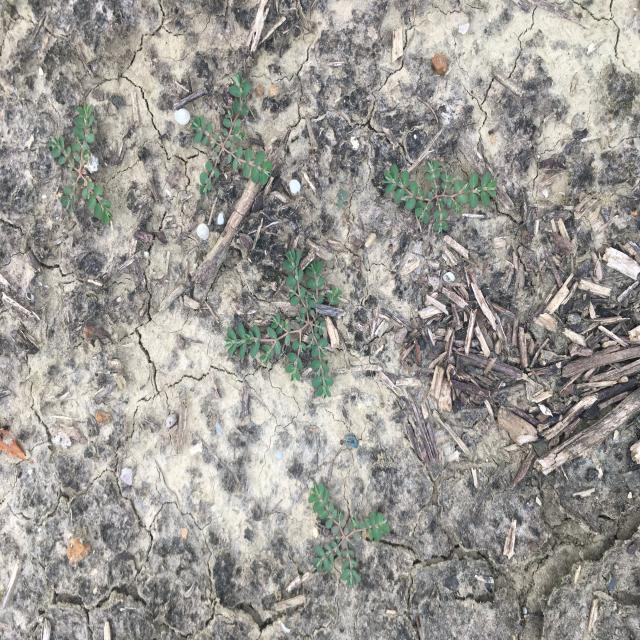SpottedSpurge: (223, 248, 343, 400), (189, 70, 274, 198), (381, 156, 498, 238), (308, 481, 391, 590), (46, 100, 114, 227)
